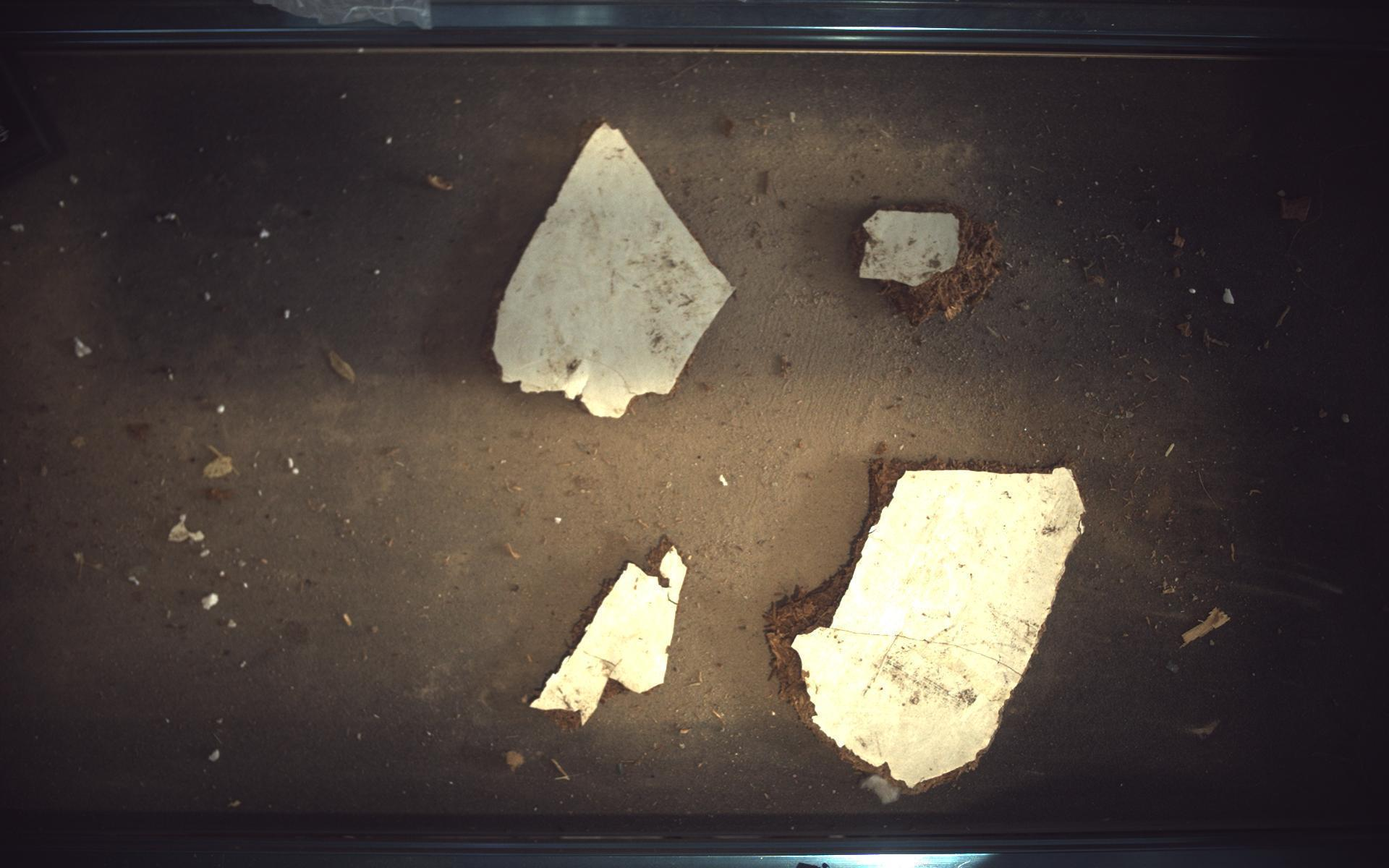wood: (767, 461, 1086, 793), (493, 122, 734, 418), (531, 547, 687, 726), (854, 205, 1003, 325)
